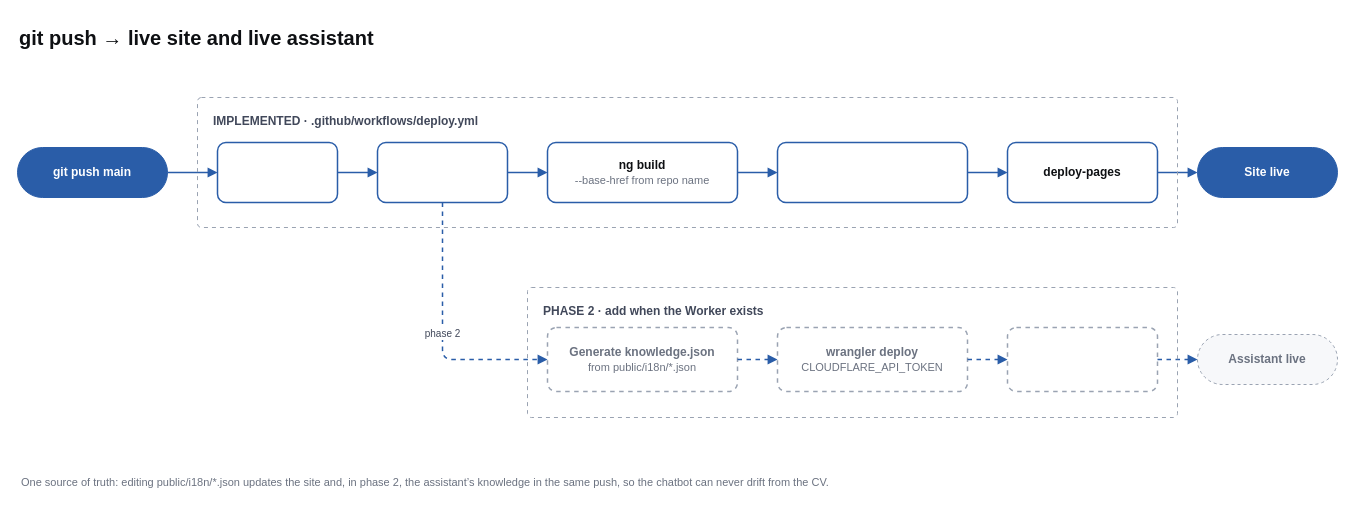
The diagram is 1355 pixels wide and 524 high, and some of its shapes have lost their labels. Each missing label, with the centre of its shape:
"ng test vitest" belongs at (x=442, y=172).
"npm ci" belongs at (x=277, y=172).
"Smoke test POST /api/chat → 200" belongs at (x=1082, y=359).
"upload-pages-artifact" belongs at (x=872, y=172).
